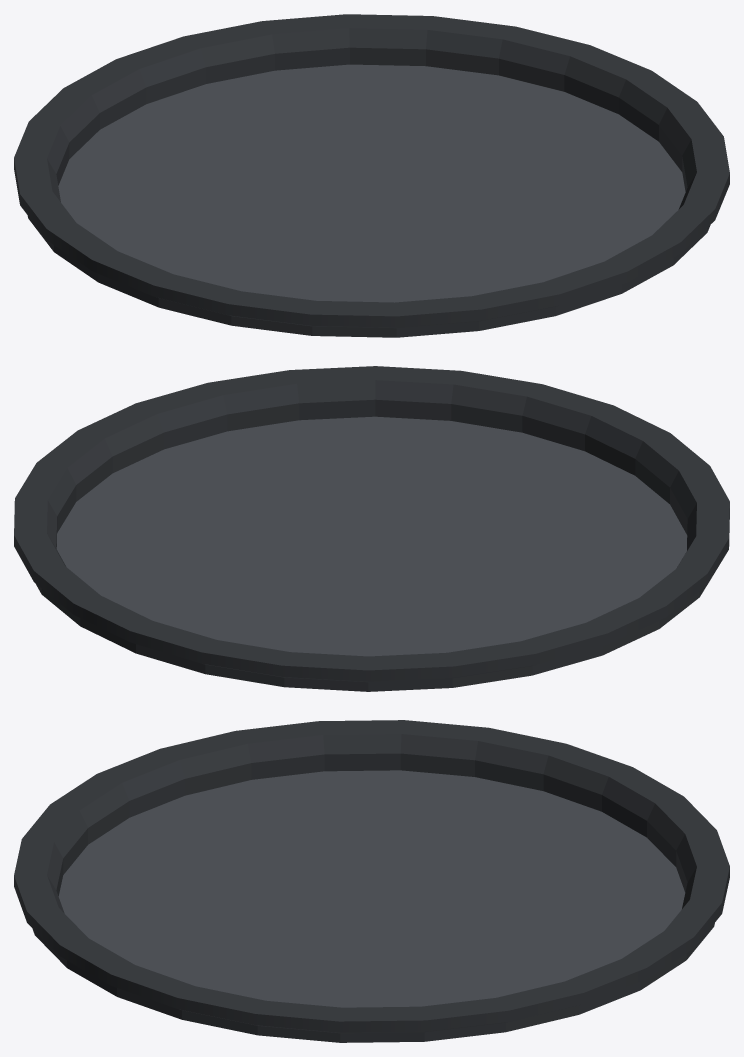
File: SM_Bld_OfficeRound_Roof_01.glb
The picture shows the model from 3 angles, top to bottom: view 1: azimuth 30°, elevation 25°; view 2: azimuth 150°, elevation 25°; view 3: azimuth 270°, elevation 25°; orthographic projection.
Visible parts, largest first — view 1: SM_Bld_OfficeRound_Roof_01; view 2: SM_Bld_OfficeRound_Roof_01; view 3: SM_Bld_OfficeRound_Roof_01.
Part boxes in pixels (box(x1,y1,x2,y2)): SM_Bld_OfficeRound_Roof_01: box(14, 14, 729, 337); SM_Bld_OfficeRound_Roof_01: box(14, 366, 729, 691); SM_Bld_OfficeRound_Roof_01: box(14, 720, 729, 1042).
Bounding box in the file's own units: 0.2297 × 0.0115 × 0.2305.
Materials: 1 (1 with a texture image).
